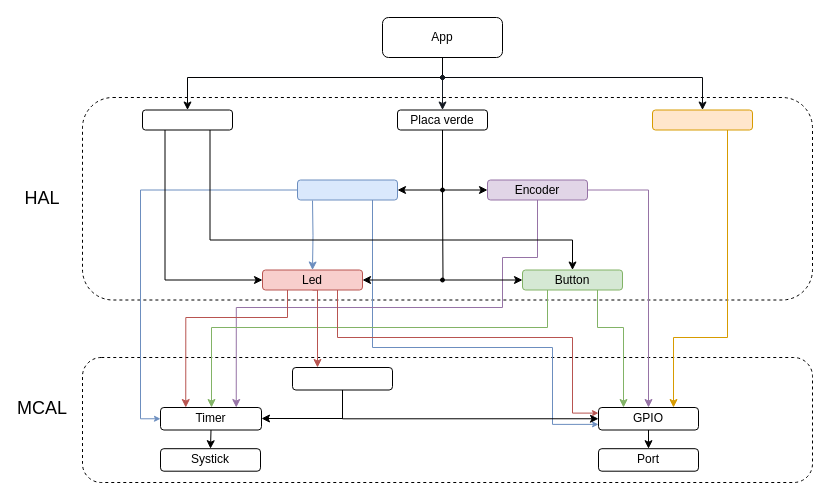
This 830x500 diagram has some shape labels left out. Each missing label, with the centre of its shape:
7-Segment: pixel 347 189
FRDM: pixel 187 119
Lector: pixel 702 119
PWM: pixel 342 378
